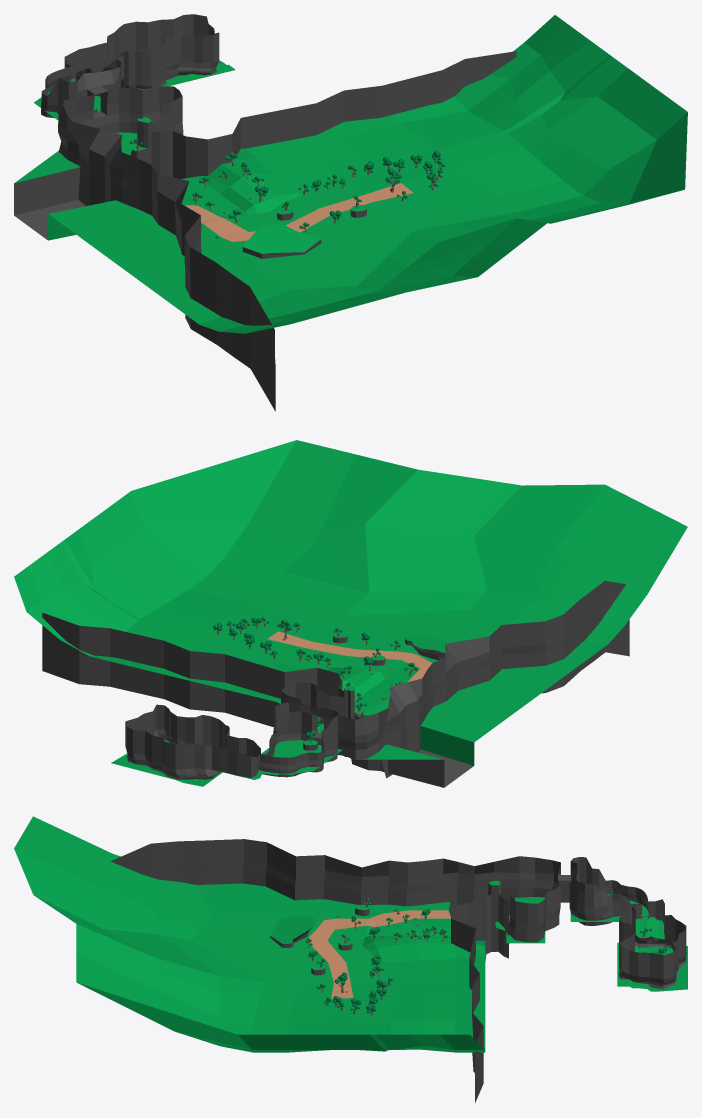
Rendered from tutorial_jam_final.fbx.
The picture shows the model from 3 angles, top to bottom: view 1: azimuth 30°, elevation 25°; view 2: azimuth 150°, elevation 25°; view 3: azimuth 270°, elevation 25°; orthographic projection. The views are drawn at different scales.
Parts seen in each view (by area): view 1: CLIFF, LEDGE.001, LEDGE.004; view 2: CLIFF, LEDGE.001, CLIFF.001, LEDGE.004, GROUND; view 3: CLIFF, LEDGE.001, LEDGE.004, GROUND, CLIFF.001.
Part boxes in pixels (bbox=[...]): CLIFF: bbox=[14, 14, 687, 411]; LEDGE.001: bbox=[130, 51, 516, 178]; LEDGE.004: bbox=[242, 224, 321, 258]; CLIFF: bbox=[14, 440, 687, 787]; LEDGE.001: bbox=[42, 612, 363, 758]; CLIFF.001: bbox=[222, 740, 342, 779]; LEDGE.004: bbox=[405, 636, 448, 660]; GROUND: bbox=[111, 740, 222, 786]; CLIFF: bbox=[14, 816, 686, 1052]; LEDGE.001: bbox=[451, 880, 508, 1102]; LEDGE.004: bbox=[270, 915, 316, 947]; GROUND: bbox=[617, 942, 687, 991]; CLIFF.001: bbox=[570, 894, 664, 939].
Size of the model in its own units: 49558 by 12683 by 64396.
Materials: 41 (41 with a texture image).
